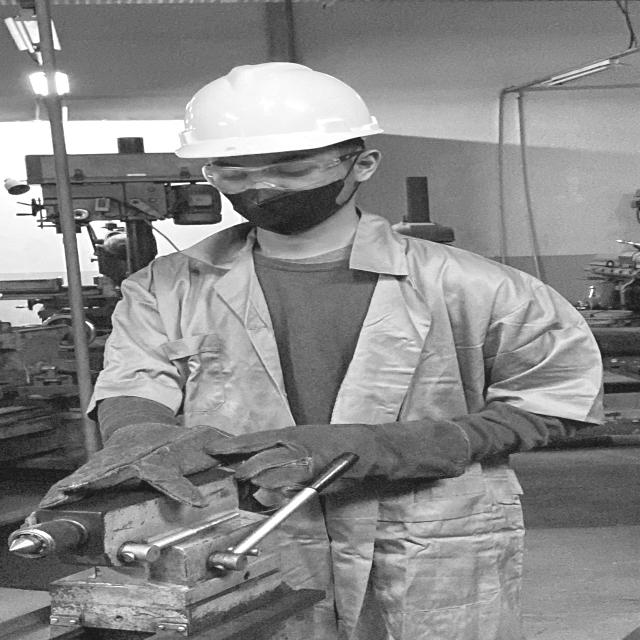face_mask: (208, 152, 356, 235)
glasses: (198, 154, 351, 193)
hand_glove: (5, 419, 236, 535), (209, 402, 425, 505)
head_helmet: (166, 61, 383, 164)
person: (0, 45, 618, 639)
